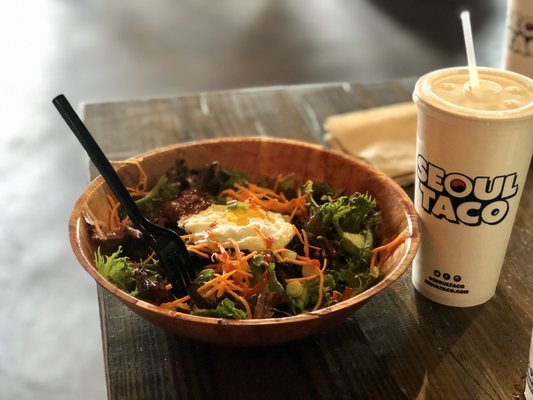burger: (51, 94, 203, 291)
pizza: (412, 65, 533, 308)
salad: (52, 93, 197, 298), (460, 9, 480, 94)
sushi: (75, 135, 422, 350)
